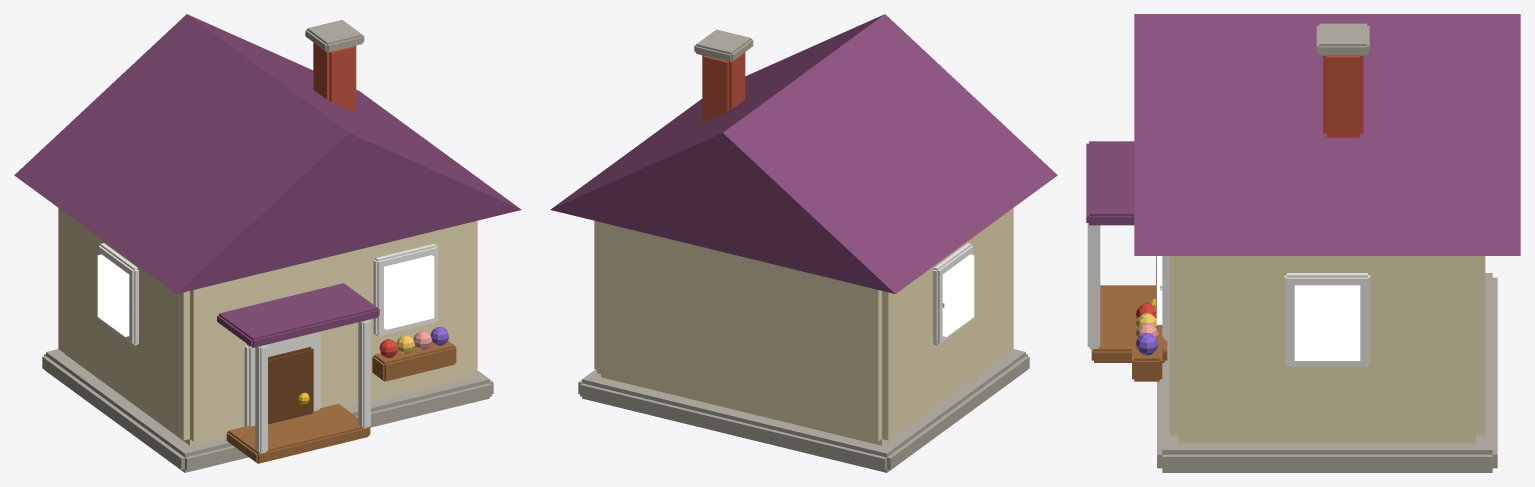
The model's file is house_plum.glb.
The picture shows the model from 3 angles, left to right: view 1: azimuth 30°, elevation 25°; view 2: azimuth 150°, elevation 25°; view 3: azimuth 270°, elevation 25°; orthographic projection. The views are drawn at different scales.
Visible parts, largest first — view 1: house_plum; view 2: house_plum; view 3: house_plum.
Boxes of the visible parts, left/top/right/bottom form: house_plum: left=14, top=14, right=521, bottom=472; house_plum: left=550, top=14, right=1057, bottom=472; house_plum: left=1086, top=14, right=1520, bottom=472.
Bounding box in the file's own units: 1.88 × 1.72 × 1.72.
